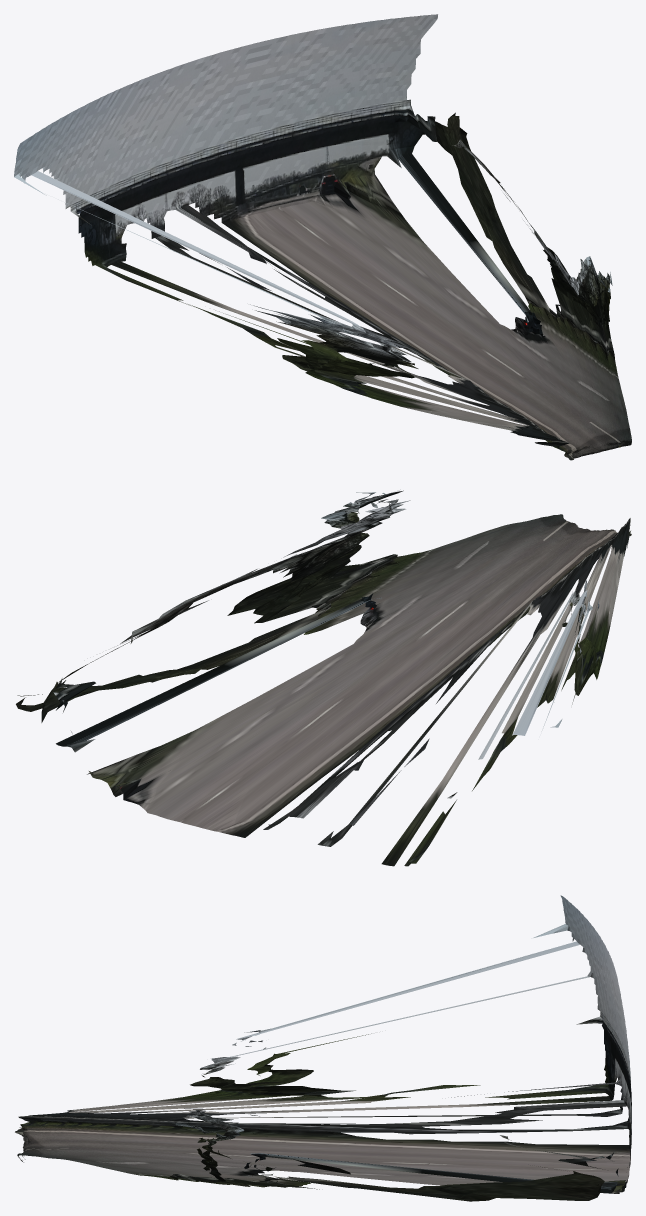
3 views of the same model, one above another, from view 1: azimuth 30°, elevation 25°; view 2: azimuth 150°, elevation 25°; view 3: azimuth 270°, elevation 25° (orthographic). The views are drawn at different scales.
Visible parts, largest first — view 1: defaultobject; view 2: defaultobject; view 3: defaultobject.
Part boxes in pixels (x1=…): defaultobject: x1=14, y1=14, x2=631, y2=460; defaultobject: x1=16, y1=490, x2=631, y2=866; defaultobject: x1=15, y1=895, x2=631, y2=1201.
Size of the model in its own units: 34.45 by 12.75 by 44.79.
Materials: 1 (1 with a texture image).
